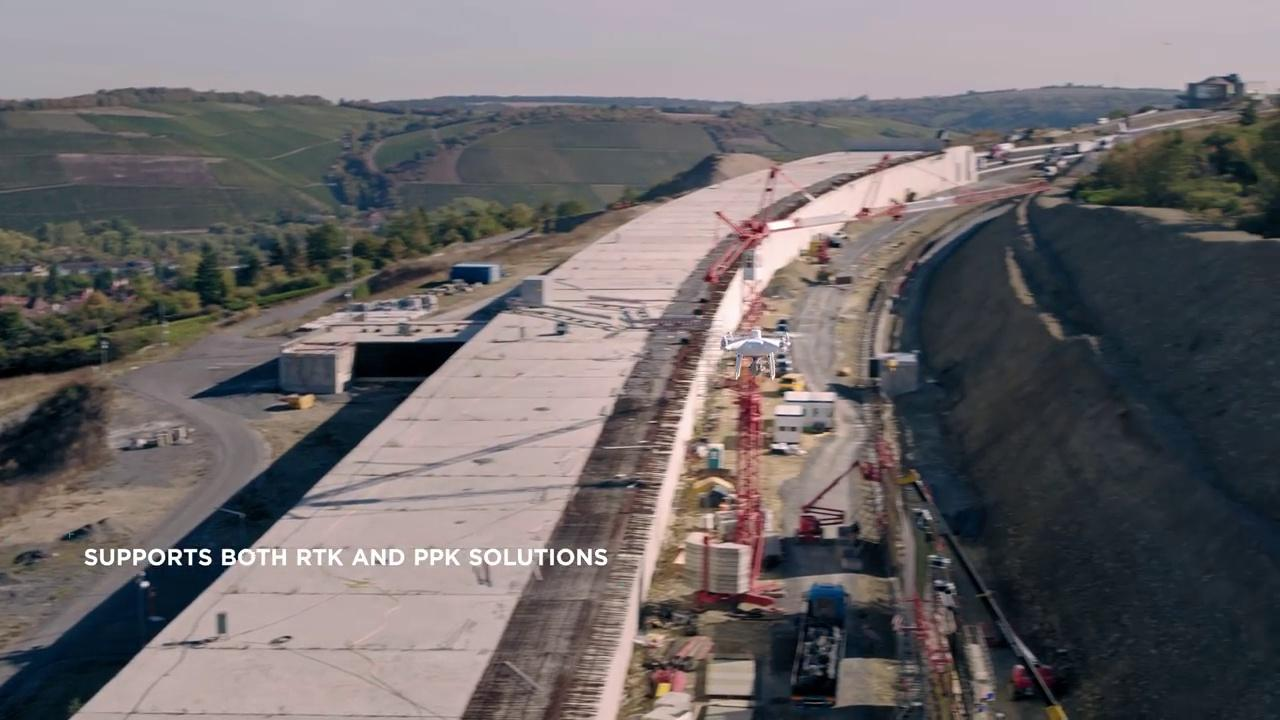drone: (715, 326, 802, 382)
